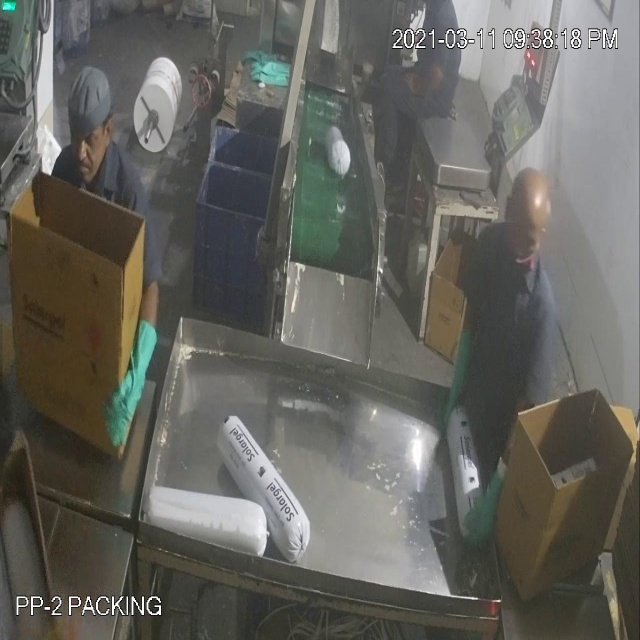Guantes: (99, 318, 166, 454), (434, 308, 481, 444), (461, 455, 514, 556)
